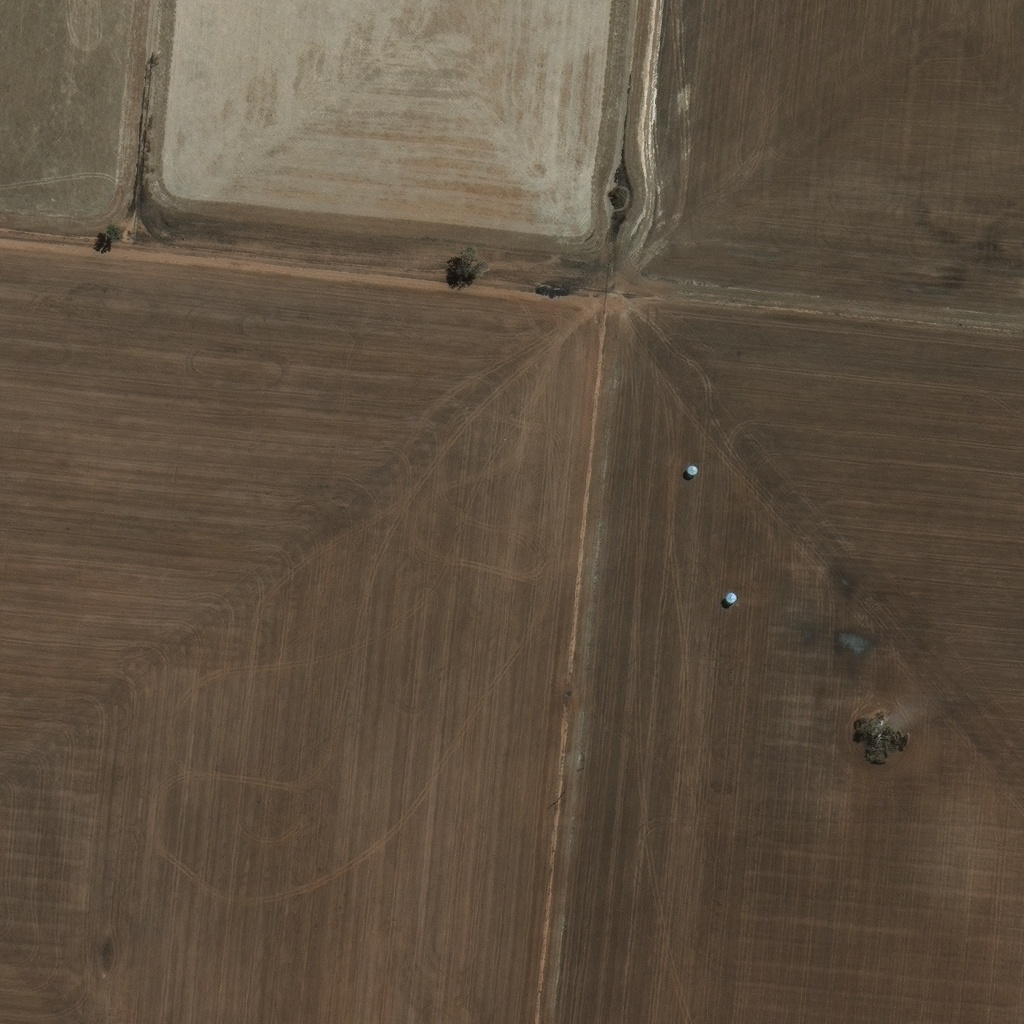4 un-classified: (757, 455, 767, 465)
